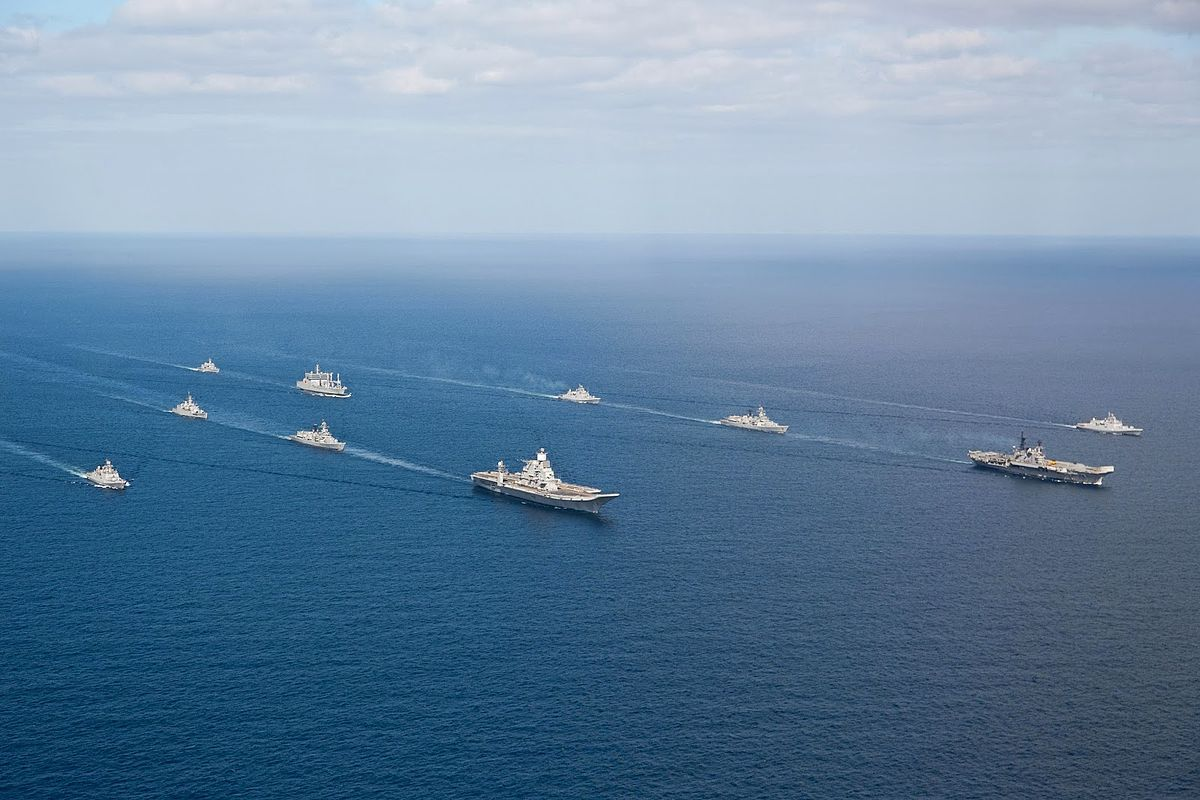ship: (987, 422, 1119, 556), (470, 450, 647, 536), (1083, 391, 1180, 460), (722, 399, 828, 444), (270, 419, 364, 466), (284, 366, 374, 396), (543, 387, 659, 410), (86, 446, 132, 502), (184, 355, 236, 379), (179, 398, 219, 423)
